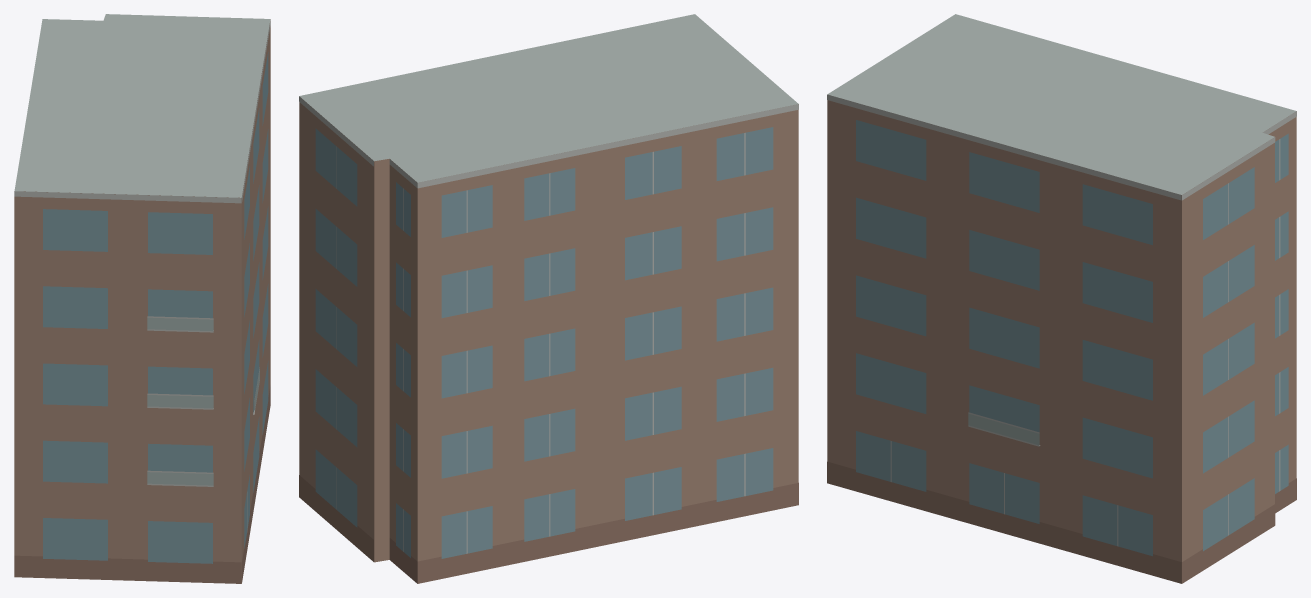
Rendered from survey-upis-32544149.glb.
The picture shows the model from 3 angles, left to right: view 1: azimuth 30°, elevation 25°; view 2: azimuth 150°, elevation 25°; view 3: azimuth 270°, elevation 25°; orthographic projection. The views are drawn at different scales.
Parts seen in each view (by area): view 1: survey-upis-32544149.tmp; view 2: survey-upis-32544149.tmp; view 3: survey-upis-32544149.tmp.
Boxes of the visible parts, left/top/right/bottom form: survey-upis-32544149.tmp: left=14, top=14, right=270, bottom=583; survey-upis-32544149.tmp: left=299, top=14, right=798, bottom=583; survey-upis-32544149.tmp: left=827, top=14, right=1296, bottom=583.
Size of the model in its own units: 17.09 by 17.1 by 18.72.
